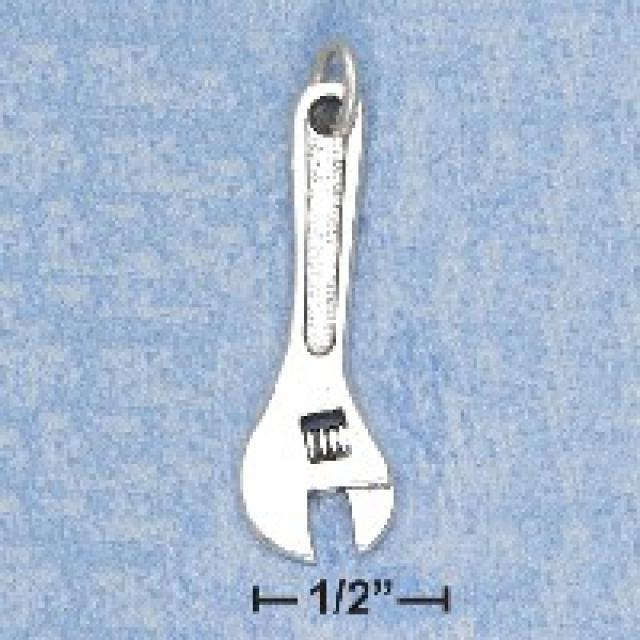wrench: (231, 76, 401, 572)
